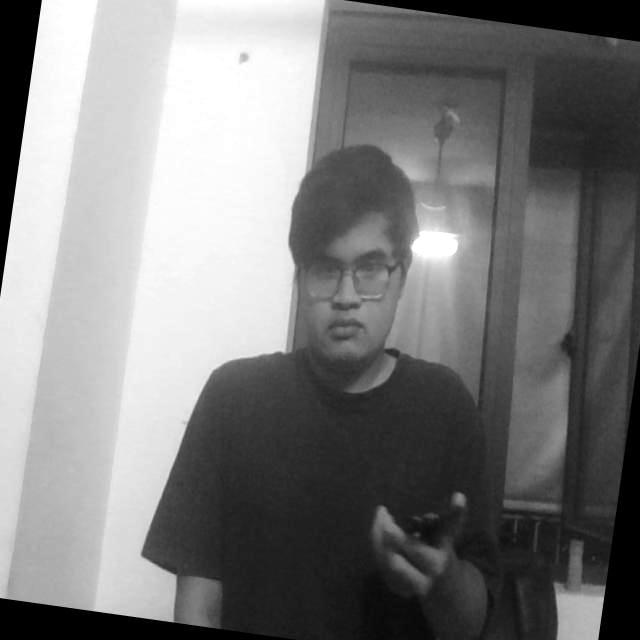phone: (361, 469, 478, 559)
